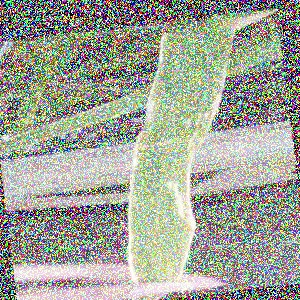Leaf_Blast: (120, 122, 193, 282)
